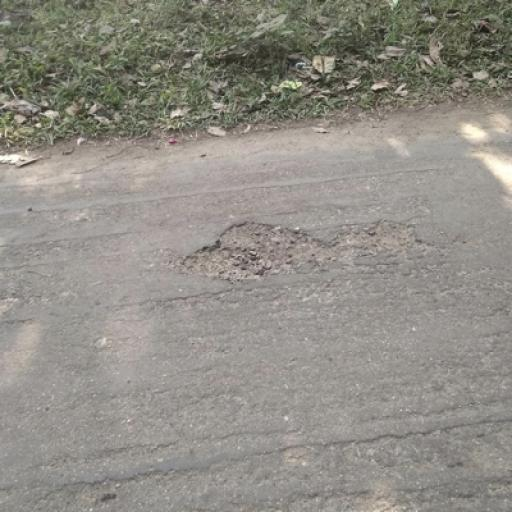pothole: (170, 215, 426, 282)
